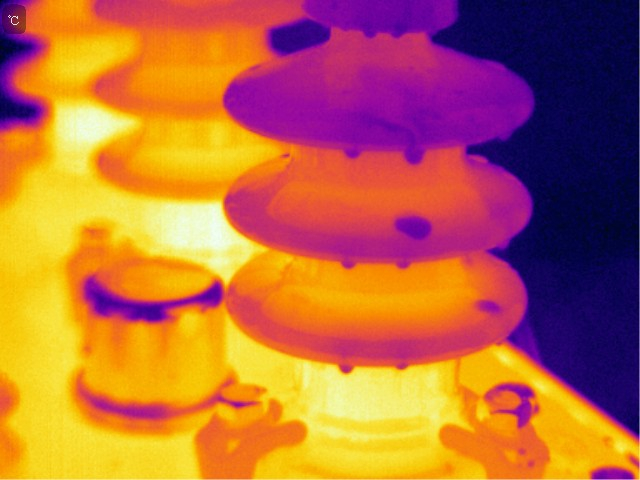Water: (393, 210, 434, 242), (359, 23, 408, 42), (496, 120, 519, 152), (493, 233, 519, 256), (399, 146, 431, 164), (473, 298, 506, 315), (336, 256, 358, 271), (492, 337, 510, 355), (394, 257, 413, 273), (336, 360, 356, 375), (341, 150, 362, 163), (396, 360, 410, 373)
